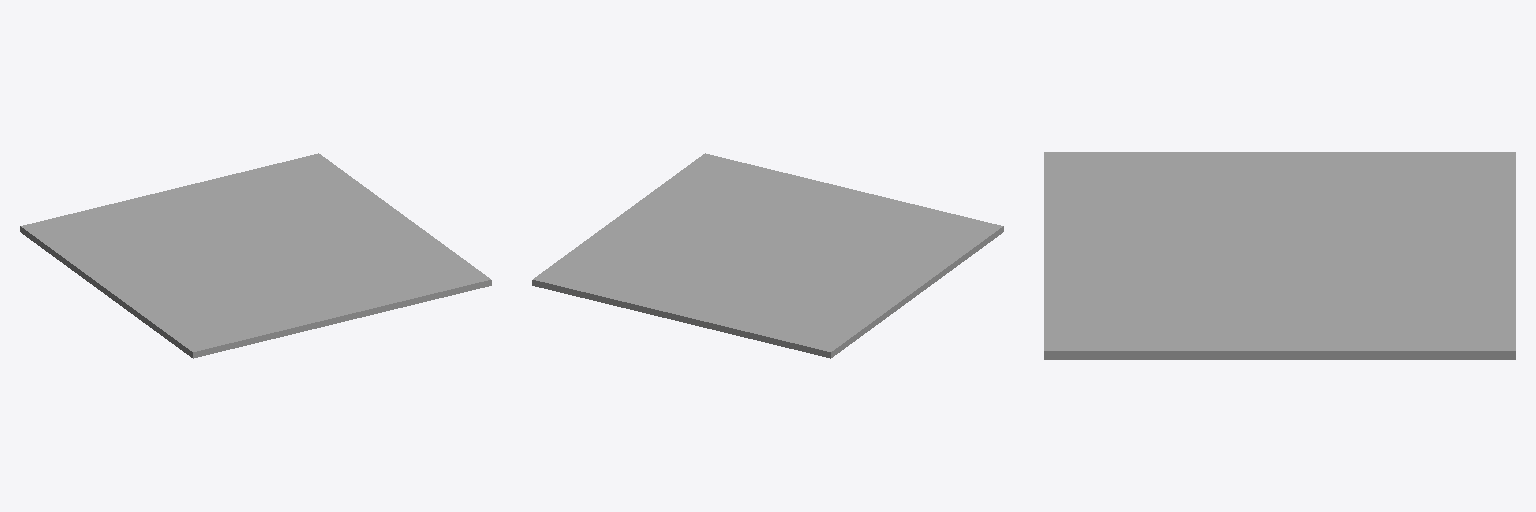
URDF robot description (Plate):
<robot name="Plate">
	<link name="baselink">
		<contact>
			<lateral_friction value="1.0" />
			<spinning_friction value="0.2" />
			<rolling_friction value="0.001" />
			<contact_cfm value="0.0" />
			<contact_erp value="0.8" />
			<damping value="1000" />
			<stiffness value="30000" />
		</contact>
		<inertial>
			<origin rpy="0 0 0" xyz="0 0 0" />
			<mass value="1.0" />
			<inertia ixx="1" ixy="0" ixz="0" iyy="1" iyz="0" izz="1" />
		</inertial>
		<visual>
			<origin rpy="0 0 0" xyz="0 0 0" />
			<geometry>
				<box size= "0.5 0.5 0.01" />
			</geometry>
			<material name="base">
				<color rgba="0.7 0.7 0.7 1" />
			</material>
		</visual>
		<collision>
			<origin rpy="0 0 0" xyz="0 0 0" />
			<geometry>
				<box size= "0.5 0.5 0.01" />
			</geometry>
		</collision>
	</link>
</robot>

--- Render facts (derived) ---
3 views of the same robot in one strip: view 1: azimuth 30°, elevation 25°; view 2: azimuth 150°, elevation 25°; view 3: azimuth 270°, elevation 25° (orthographic).
Robot: Plate — 1 links, 0 joints (none); root link baselink; default pose: every joint at zero.
Links seen in each view (by area): view 1: baselink; view 2: baselink; view 3: baselink.
Link boxes in pixels (box(x1,y1,x2,y2)): baselink: box(20, 153, 491, 358); baselink: box(532, 153, 1003, 358); baselink: box(1044, 152, 1515, 359).
Bounding box of the posed robot: 0.5 × 0.5 × 0.01 m (x, y, z).
Geometry: primitives only (box / cylinder / sphere), no mesh files.